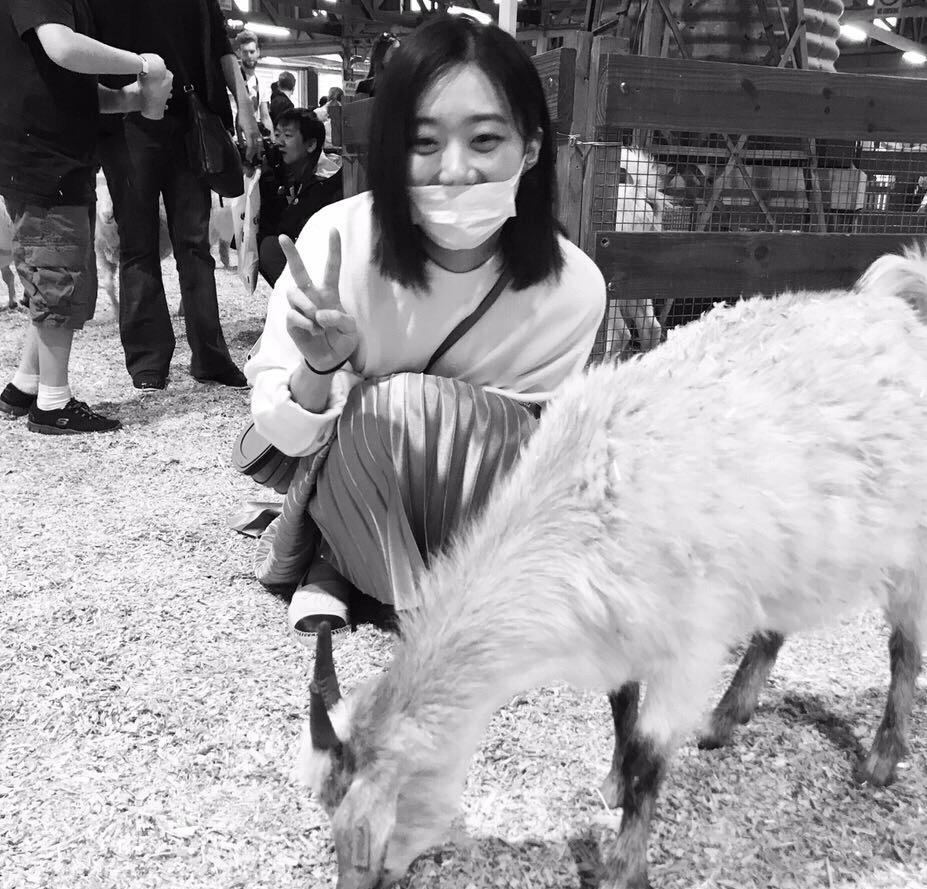NONE: (272, 125, 311, 163), (242, 47, 261, 68)
WRONG: (388, 95, 528, 249)
